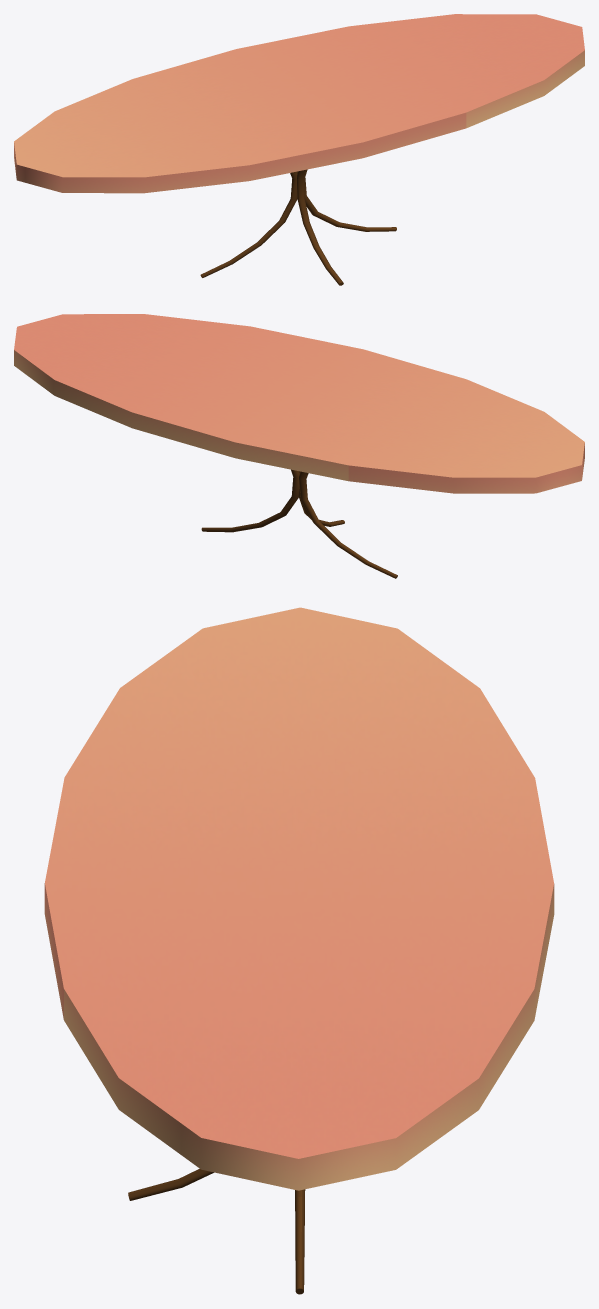
File: Table.fbx
3 views of the same model, one above another, from view 1: azimuth 30°, elevation 25°; view 2: azimuth 150°, elevation 25°; view 3: azimuth 270°, elevation 25° (orthographic). The views are drawn at different scales.
Parts seen in each view (by area): view 1: pCylinder1; view 2: pCylinder1; view 3: pCylinder1.
Part boxes in pixels (x1,y1,x2,y2): pCylinder1: (14,14,584,285); pCylinder1: (14,314,584,578); pCylinder1: (44,607,554,1294).
Bounding box in the file's own units: 12.63 × 3.39 × 4.93.
